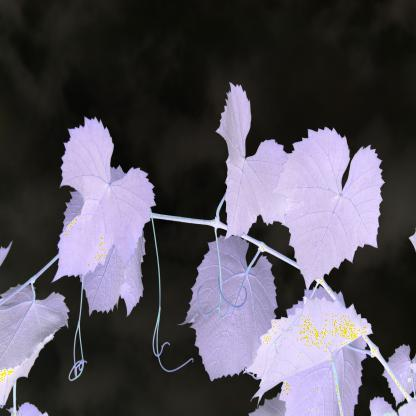grape leaf black rot: (48, 110, 155, 286), (282, 116, 380, 290), (179, 235, 287, 392), (248, 296, 376, 399), (216, 74, 280, 244)
